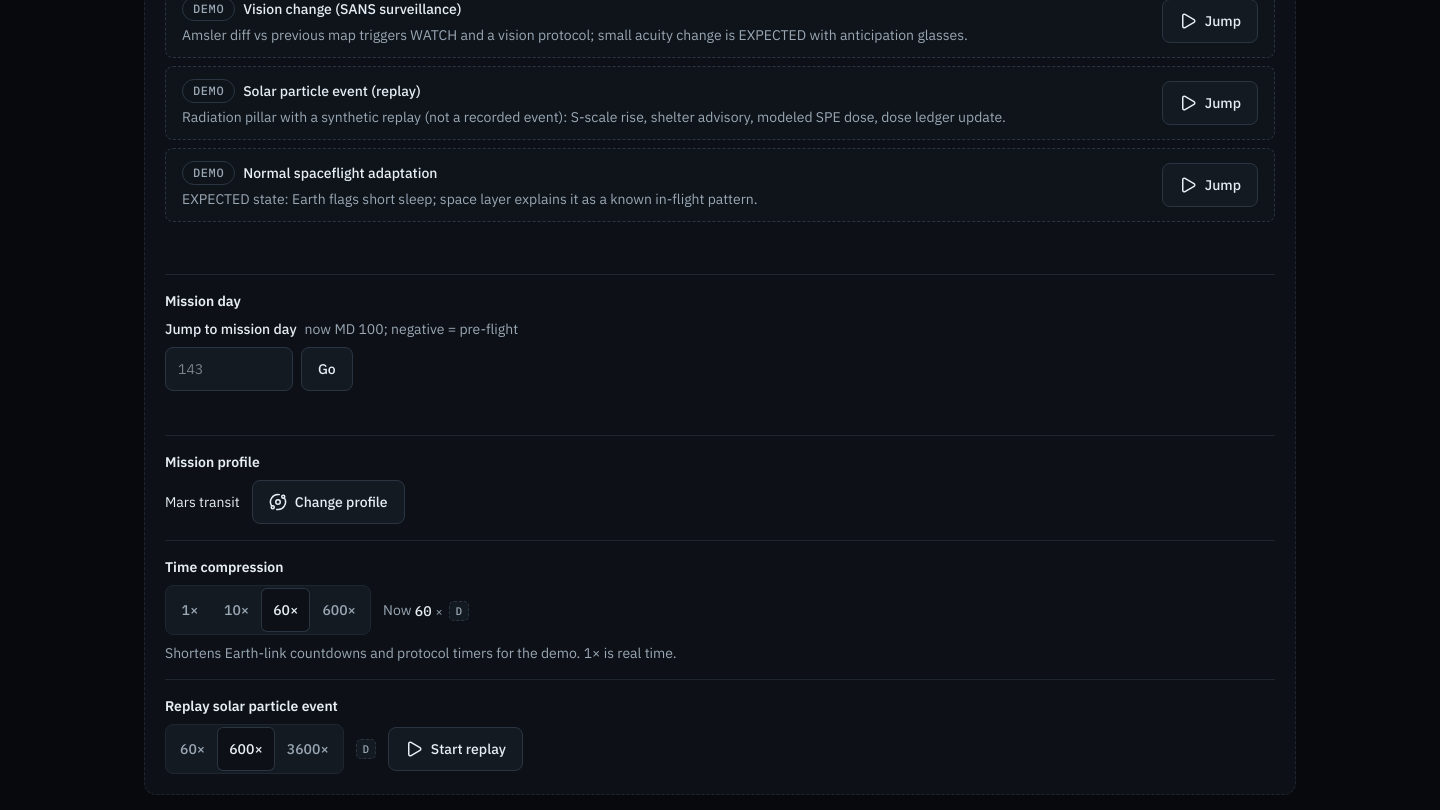
Test case: Settings page › jump to day clamps and says so
The image size is (1440, 810).
(page scrolled)
Type "0" into the field with test id "day-input" at (229, 370), box [165,348,293,392]
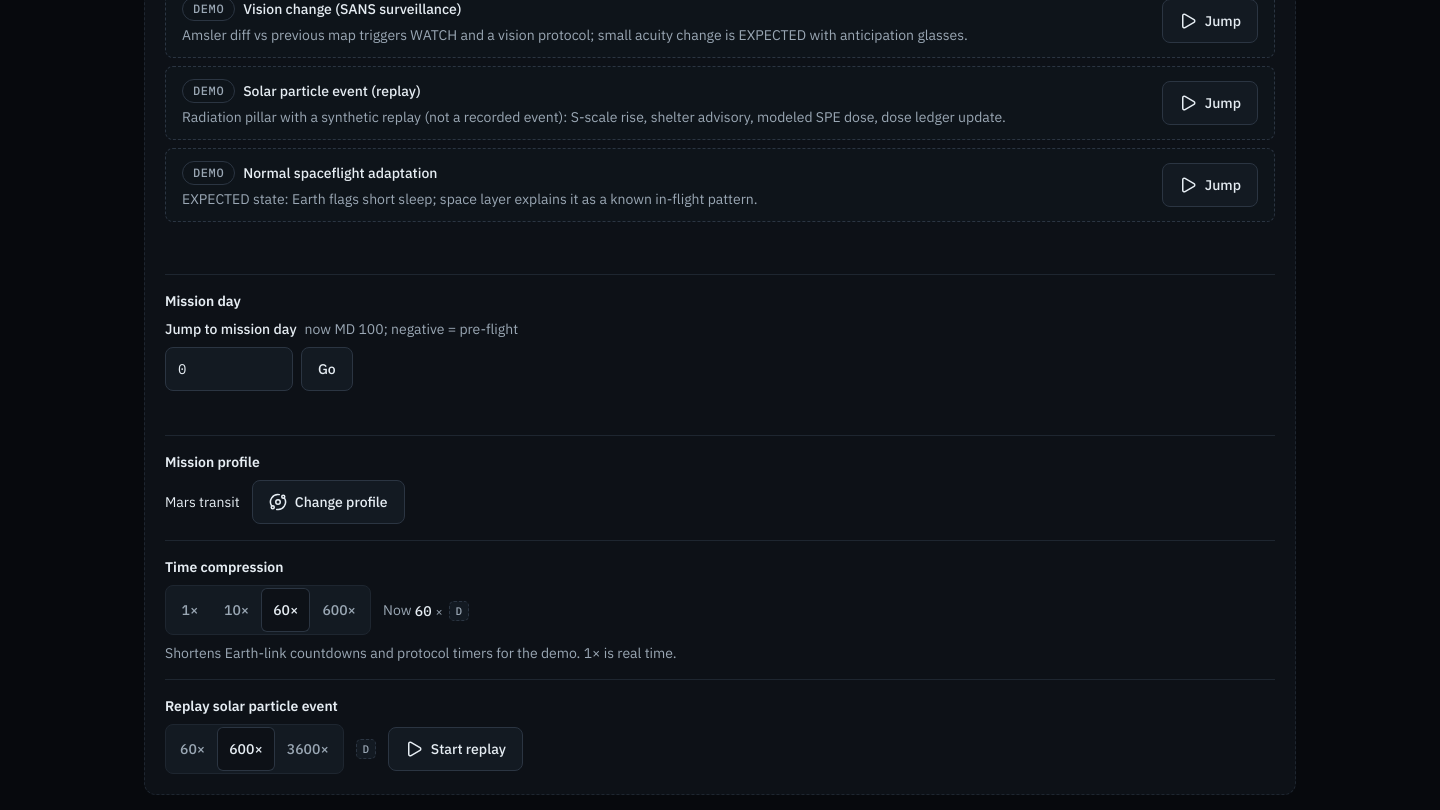
Click the button "Go" at (327, 370), box [301,348,353,392]
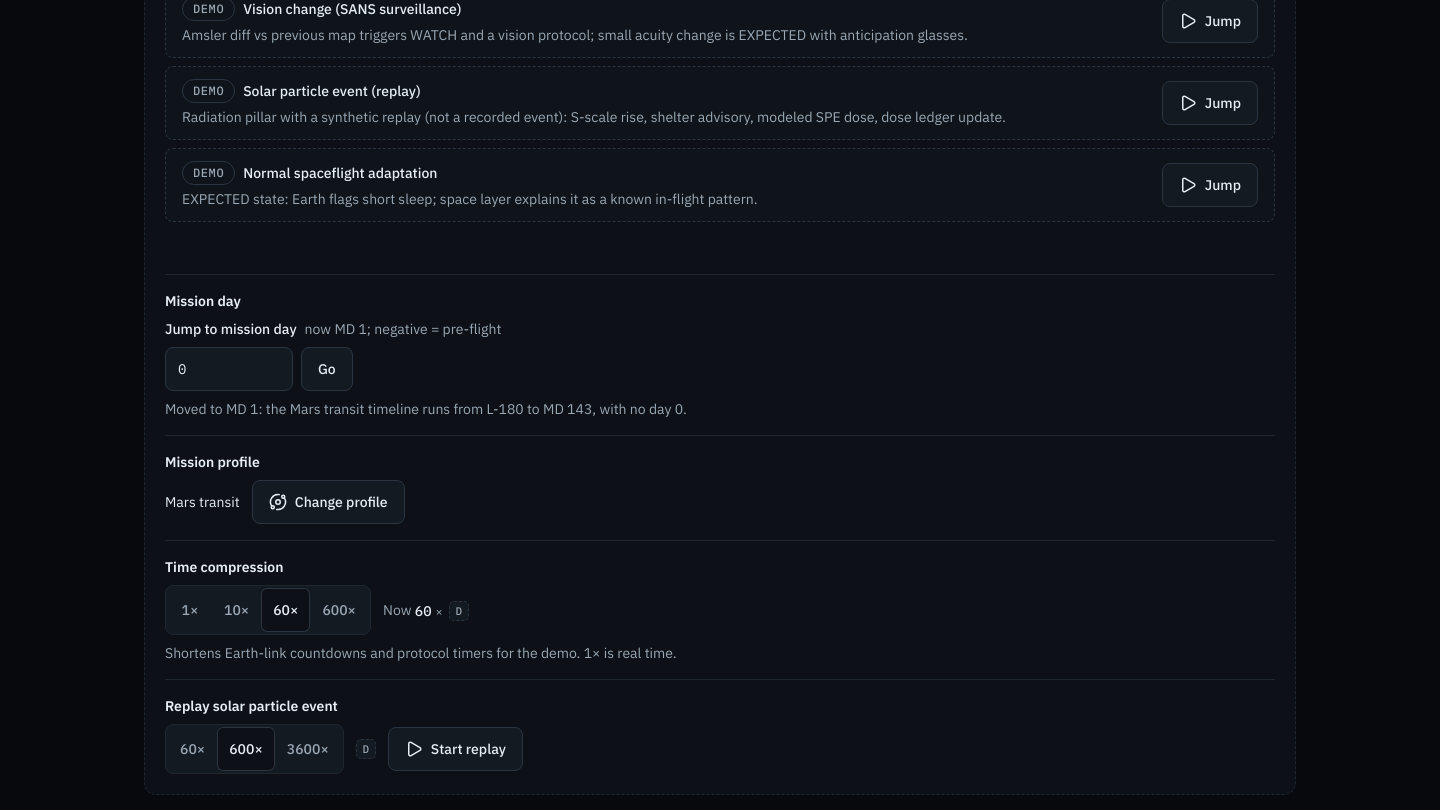
Result: the text with test id "day-message" shows "no day 0" at [165,400,687,418]
